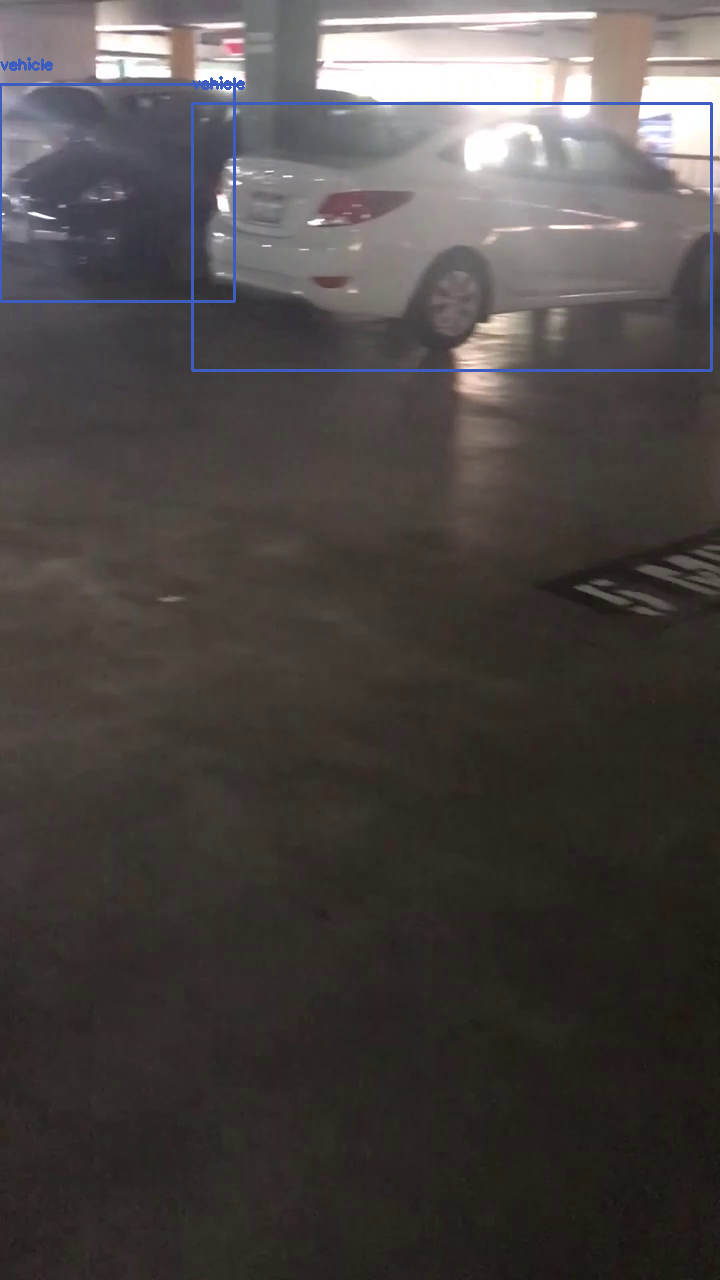vehicle: (192, 103, 711, 370), (0, 84, 234, 301)
